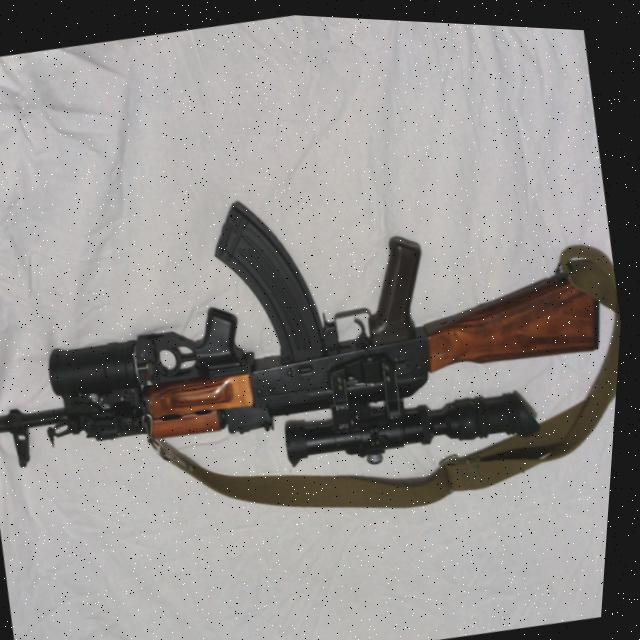firearm: (0, 120, 634, 540)
